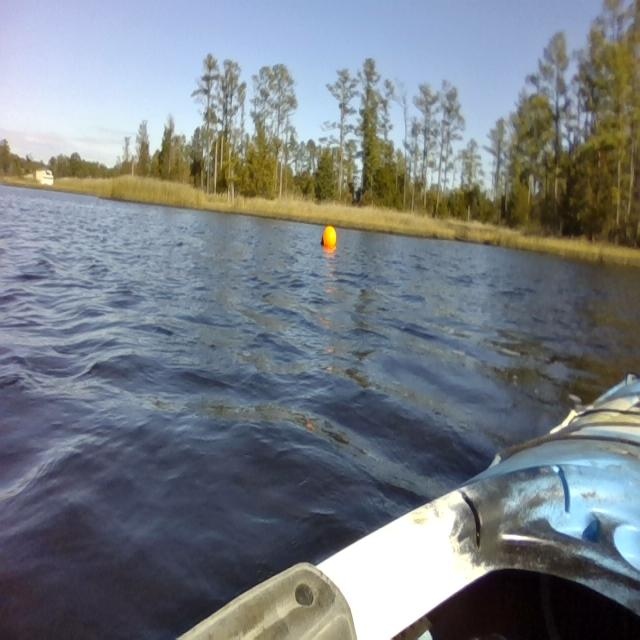Buoy: (320, 222, 338, 255)
